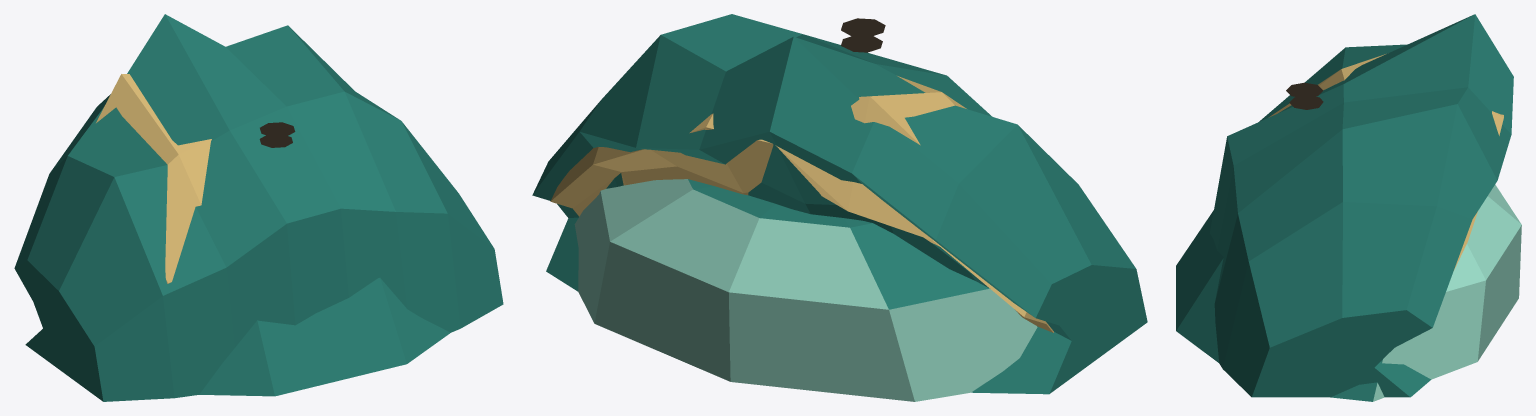
The model's file is holds.glb.
3 renders of one model, left to right at view 1: azimuth 30°, elevation 25°; view 2: azimuth 150°, elevation 25°; view 3: azimuth 270°, elevation 25°, orthographic. The views are drawn at different scales.
Parts seen in each view (by area): view 1: hl_jug_0, hl_sloper_0, goal; view 2: hl_jug_0, hl_sloper_0, goal; view 3: hl_jug_0, hl_sloper_0, goal.
Part boxes in pixels (left/top/right/bottom): hl_jug_0: left=14, top=14, right=503, bottom=401; hl_sloper_0: left=199, top=278, right=450, bottom=396; goal: left=96, top=74, right=292, bottom=283; hl_jug_0: left=532, top=14, right=1147, bottom=394; hl_sloper_0: left=574, top=179, right=1037, bottom=401; goal: left=550, top=36, right=1053, bottom=332; hl_jug_0: left=1210, top=14, right=1513, bottom=397; hl_sloper_0: left=1176, top=184, right=1521, bottom=401; goal: left=1268, top=54, right=1503, bottom=269.
Bounding box in the file's own units: 0.2608 × 0.1618 × 0.1877.
